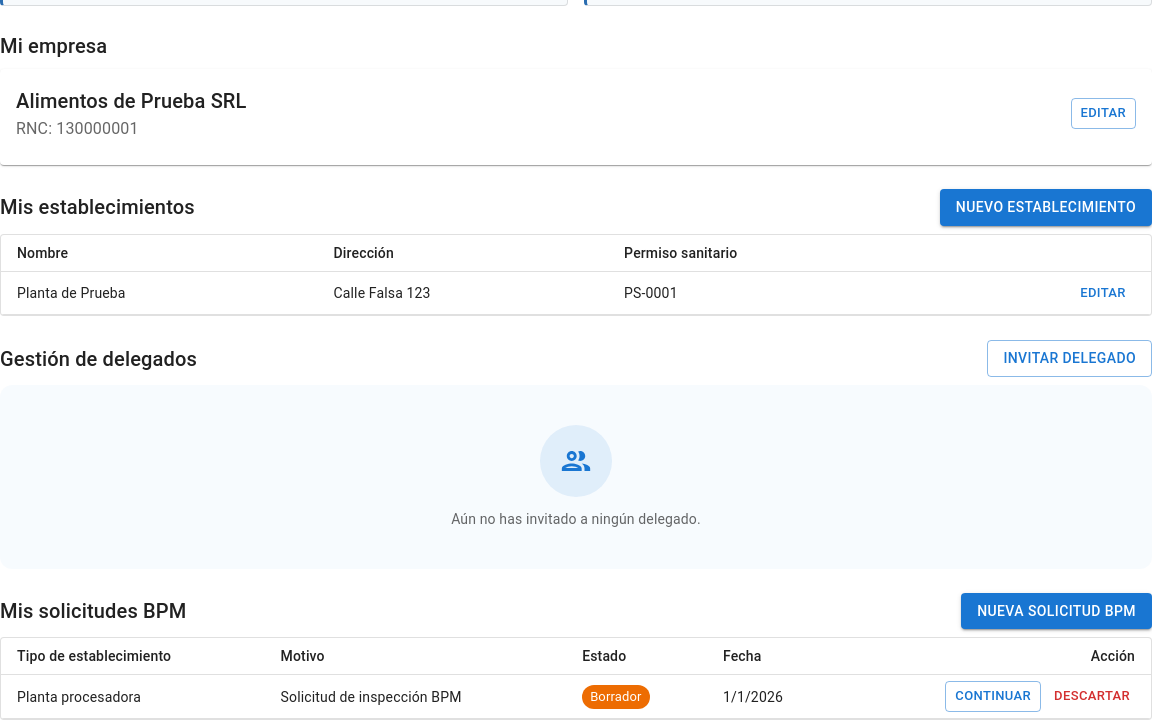
Test case: Continuar un borrador de solicitud BPM › el listado muestra el borrador como "Borrador" con un botón Continuar que abre su formulario
(page scrolled)
Expected: the text "Borrador" is shown, left=590, top=688, right=642, bottom=704
Click the link "Continuar": {"x": 993, "y": 697} left=945, top=681, right=1041, bottom=712
(page scrolled)
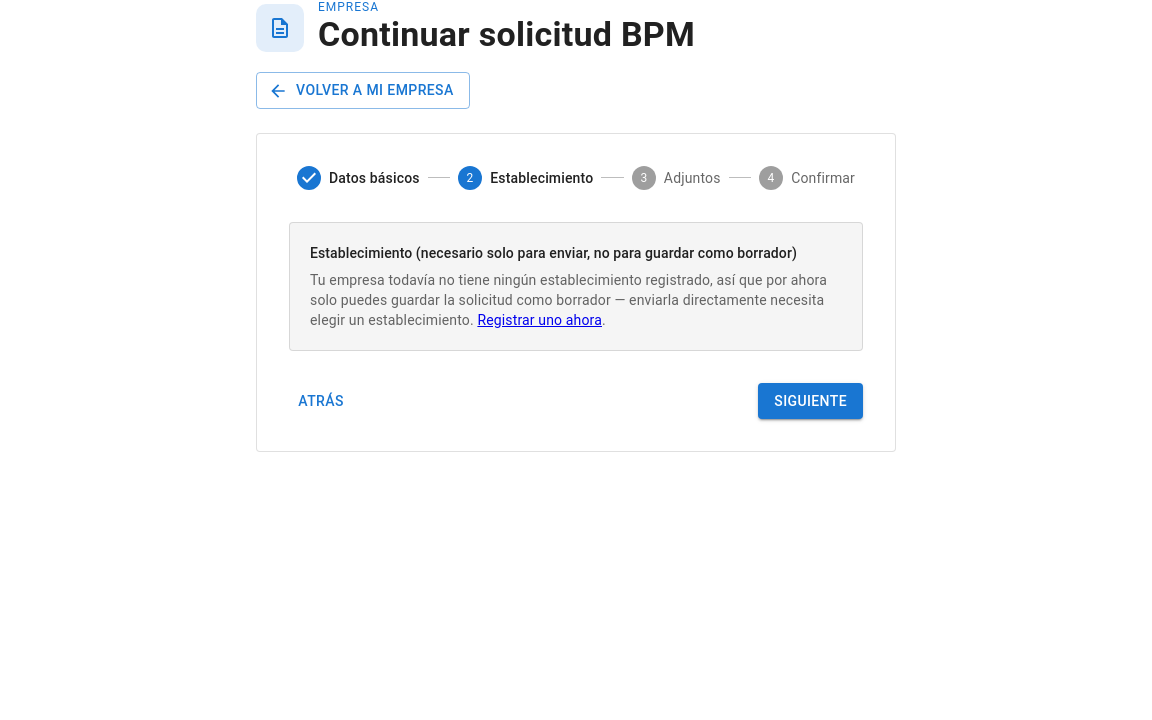
Expected: the heading "Continuar solicitud BPM" is shown, left=318, top=14, right=695, bottom=56
